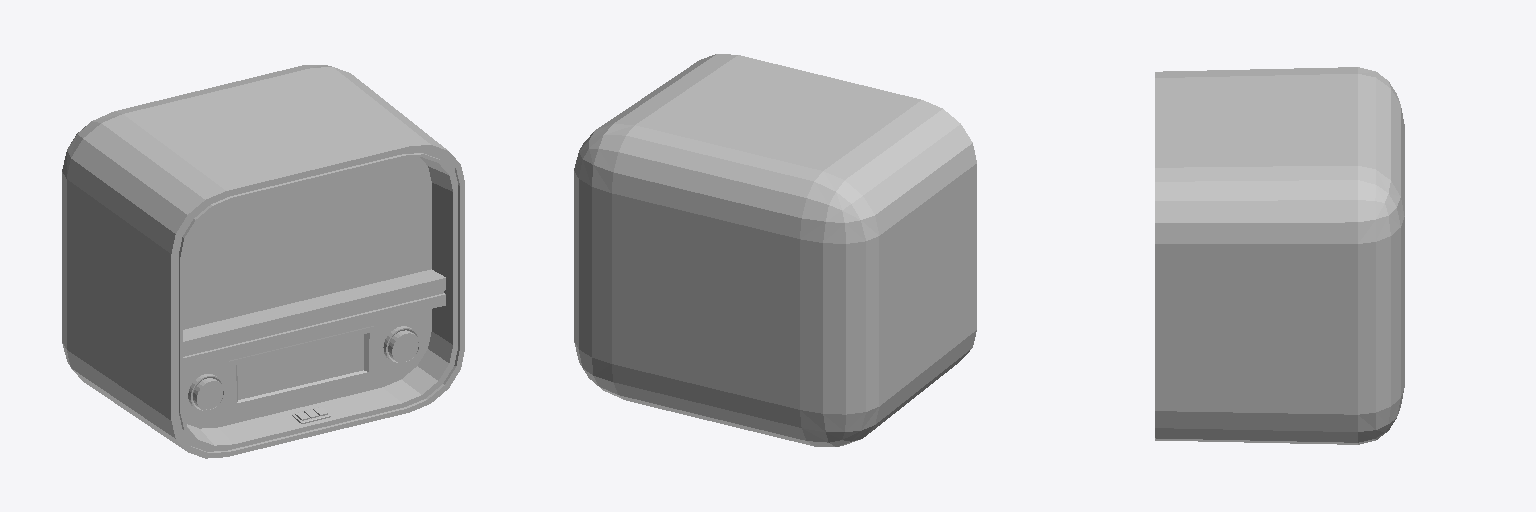
File: Radio.obj
3 renders of one model, left to right at view 1: azimuth 30°, elevation 25°; view 2: azimuth 150°, elevation 25°; view 3: azimuth 270°, elevation 25°, orthographic.
Visible parts, largest first — view 1: base_radio_Cube.001, Donde_sale_el_sonido_Cube.007, Donde_sale_el_sonido.001_Cube.008, Vara_madera_Cube.006, Boton_para_cambiar_radio.001_Cylinder.001, Boton_para_cambiar_radio.002_Cylinder.002; view 2: base_radio_Cube.001; view 3: base_radio_Cube.001.
Part boxes in pixels (x1,y1,x2,y2): base_radio_Cube.001: (62, 65, 464, 458); Donde_sale_el_sonido_Cube.007: (183, 157, 431, 329); Donde_sale_el_sonido.001_Cube.008: (183, 309, 431, 428); Vara_madera_Cube.006: (183, 269, 445, 368); Boton_para_cambiar_radio.001_Cylinder.001: (188, 374, 224, 411); Boton_para_cambiar_radio.002_Cylinder.002: (383, 326, 420, 363); base_radio_Cube.001: (574, 54, 976, 446); base_radio_Cube.001: (1155, 67, 1404, 444).
Size of the model in its own units: 4.73 by 4.1 by 3.39.